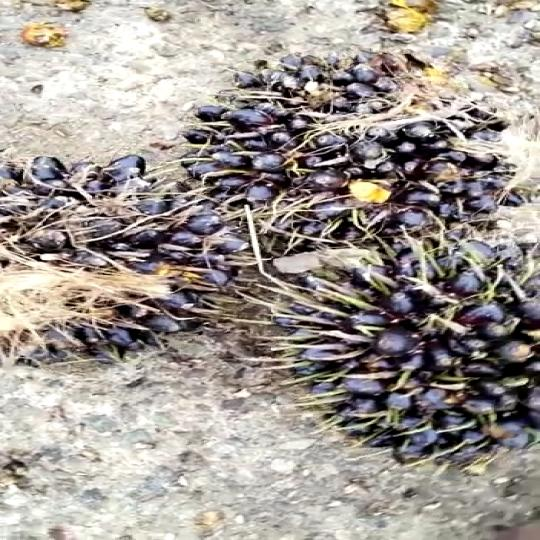mentah: (161, 34, 540, 242), (234, 230, 540, 477), (0, 144, 263, 372)
